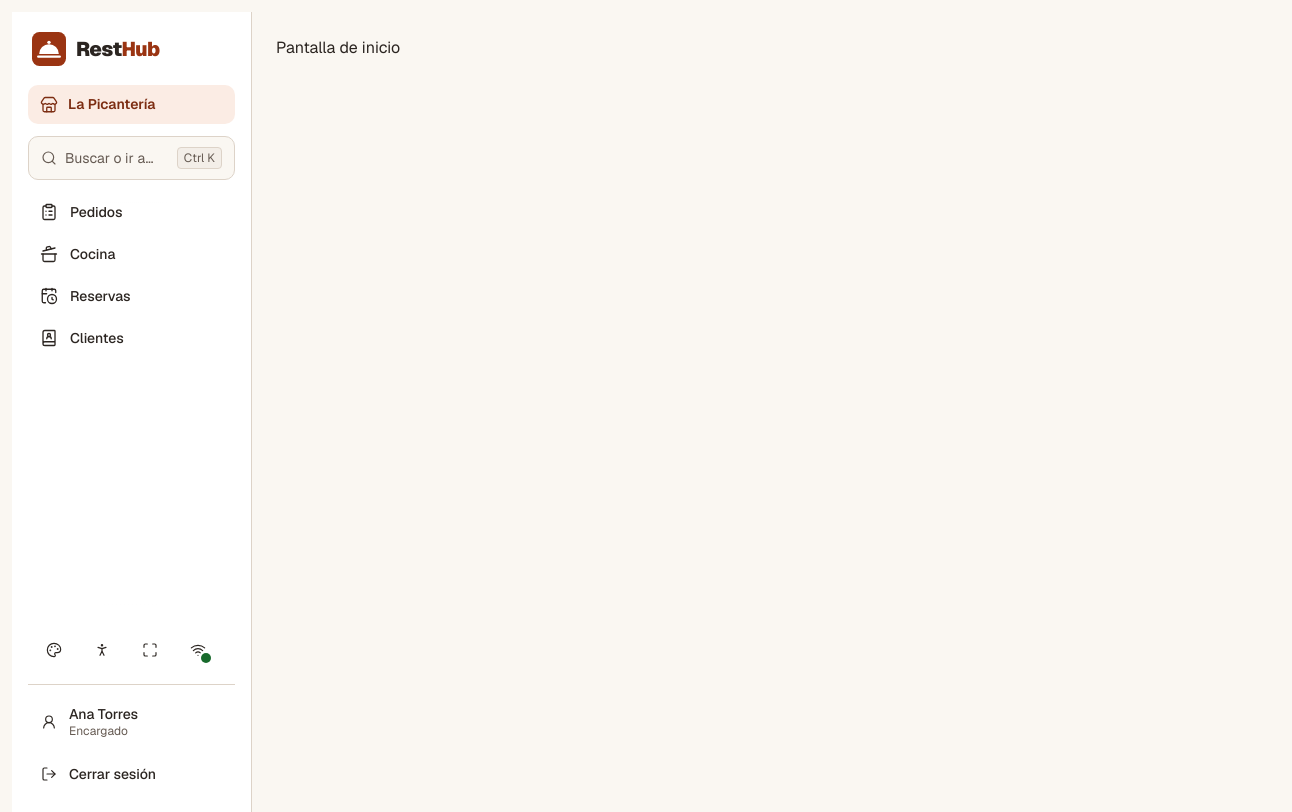
Test: AppShell: sesión y precargas › cerrar sesión vacía la sesión, lleva al acceso y avisa la salida al servidor
Click the button "Cerrar sesión" at (132, 774), box [28, 752, 235, 796]
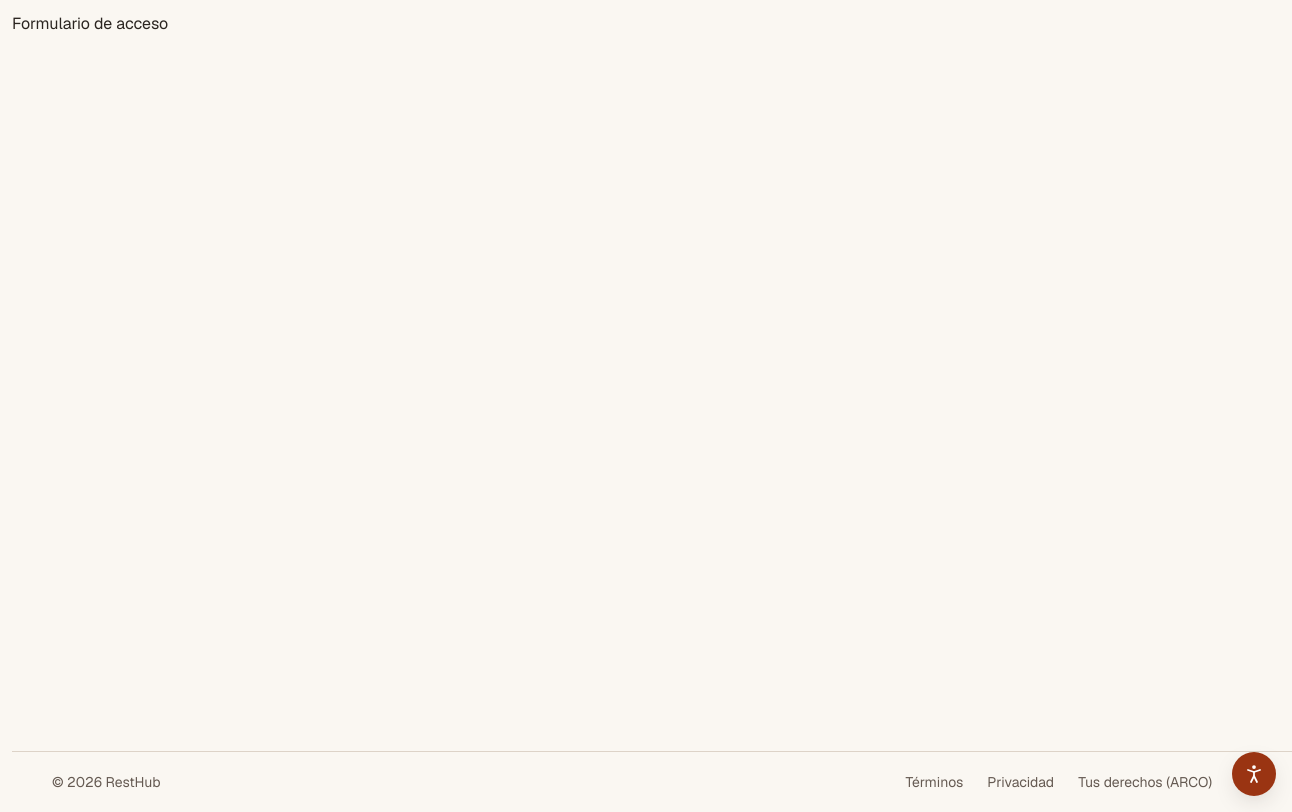
expect the text "Formulario de acceso" is shown: met, box [12, 13, 168, 34]
